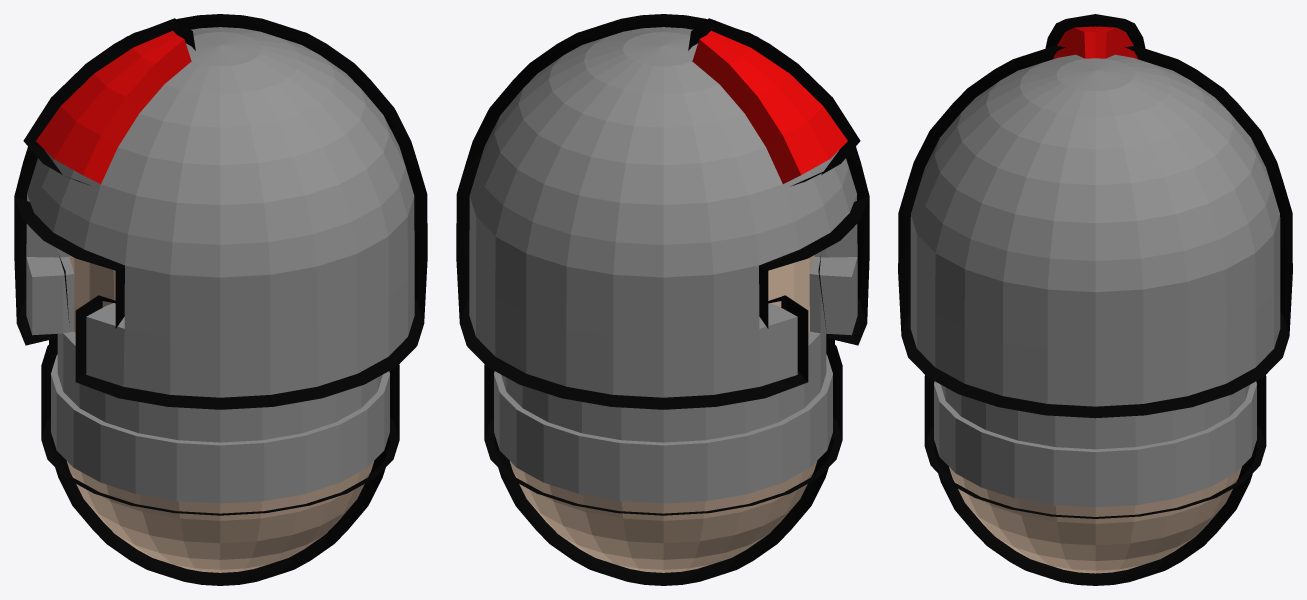
The model's file is knight.fbx.
3 renders of one model, left to right at view 1: azimuth 30°, elevation 25°; view 2: azimuth 150°, elevation 25°; view 3: azimuth 270°, elevation 25°, orthographic. The views are drawn at different scales.
Visible parts, largest first — view 1: 球体; view 2: 球体; view 3: 球体.
Boxes of the visible parts, x1,y1,x2,y2 form: 球体: (14,14,427,585); 球体: (456,14,869,585); 球体: (898,14,1292,585).
Size of the model in its own units: 252 by 375 by 253.
